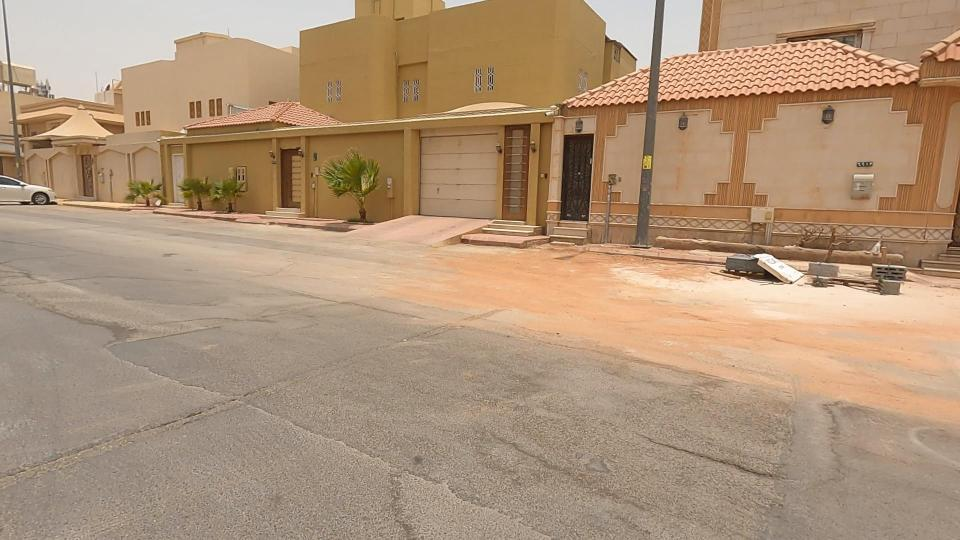GARBAGE: (660, 208, 851, 317)
